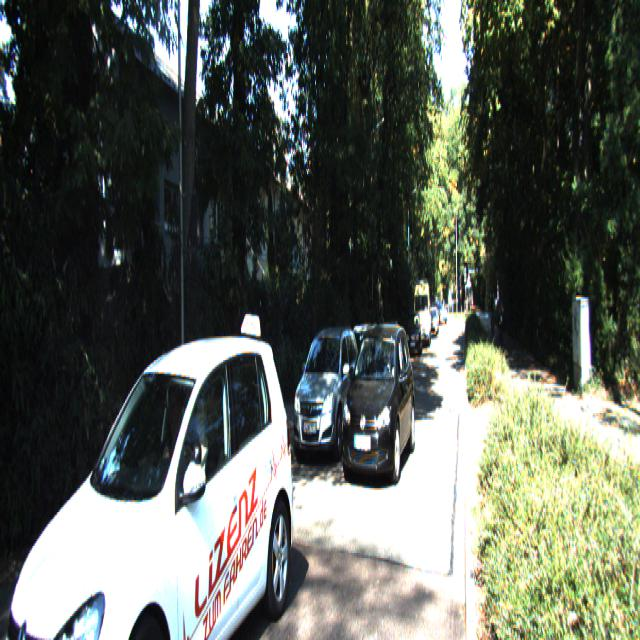Car: (0, 329, 300, 639), (336, 322, 416, 498), (290, 322, 360, 470), (337, 318, 388, 418), (375, 318, 404, 387), (413, 278, 432, 347), (405, 310, 422, 358)
